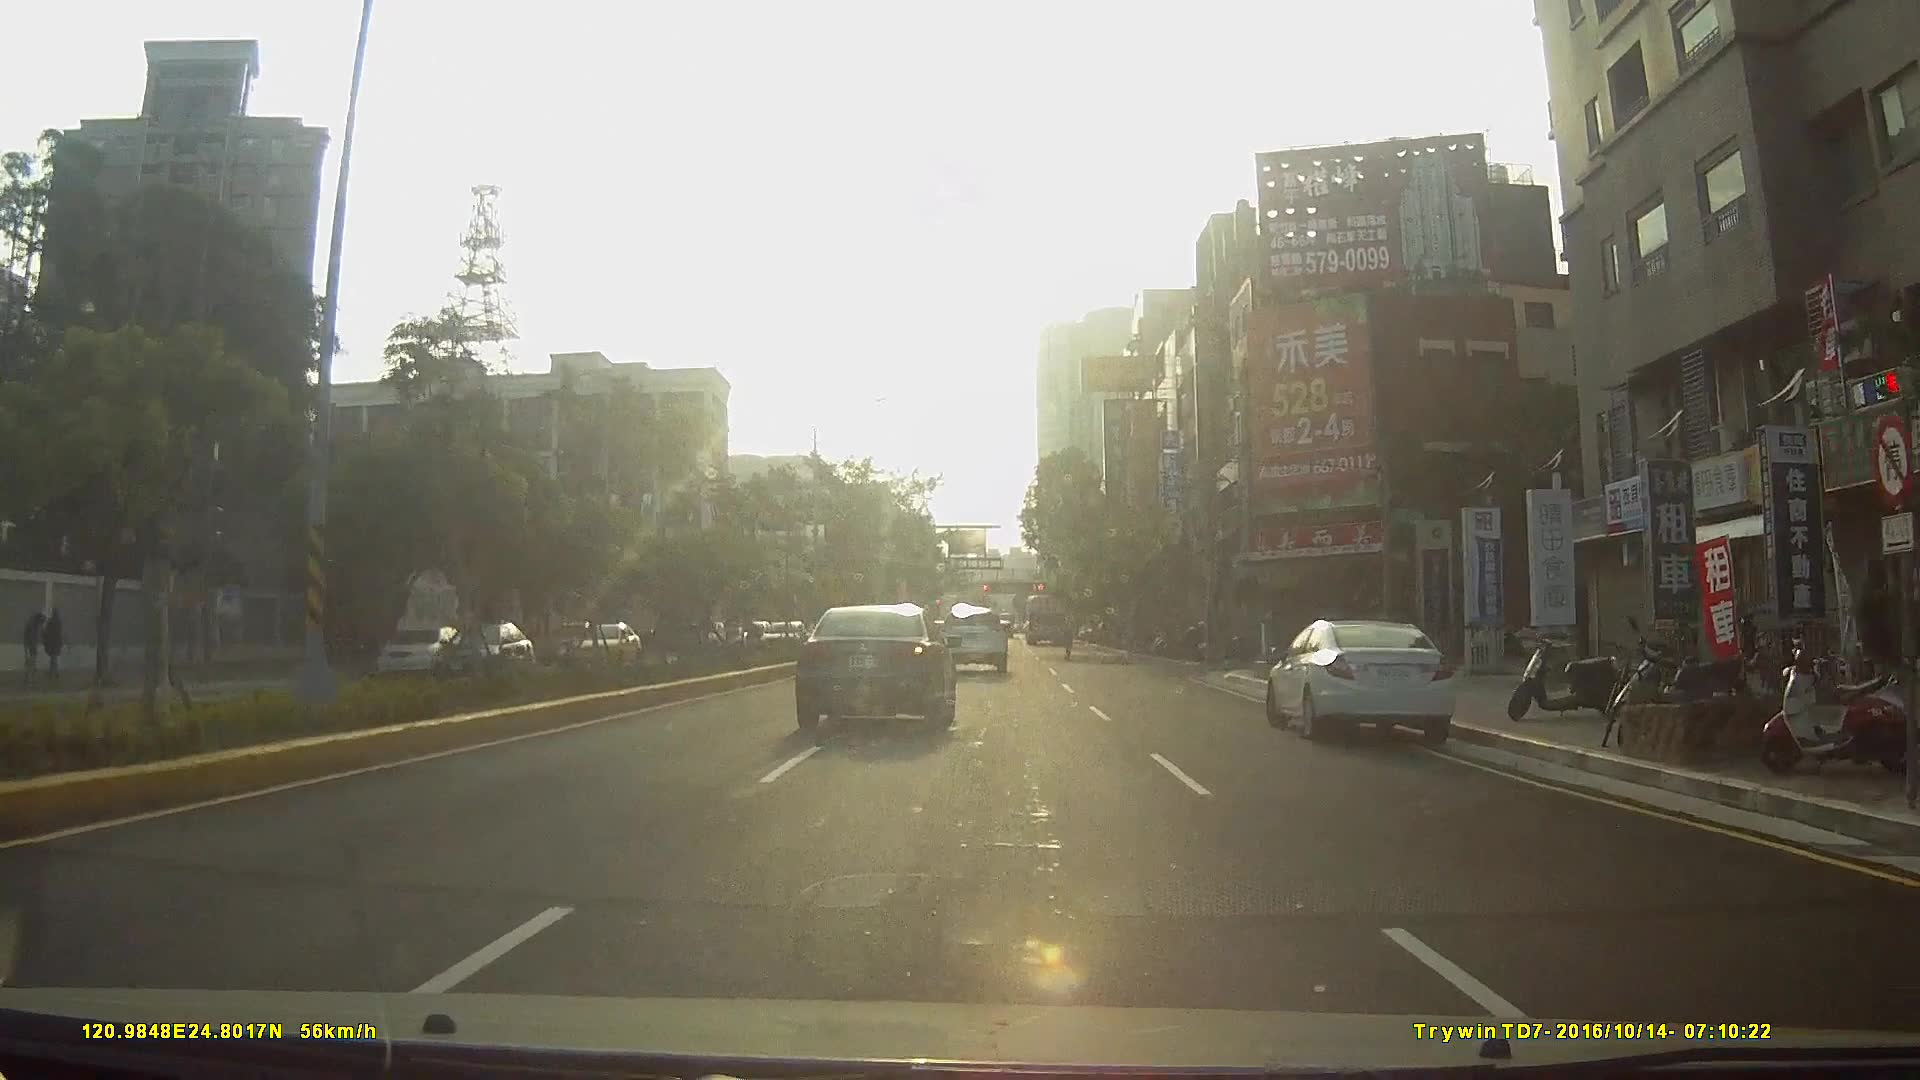pedestrian: (43, 607, 65, 680), (25, 612, 46, 675)
vehicle: (1268, 616, 1466, 747), (791, 600, 956, 731), (422, 616, 542, 695), (934, 604, 1007, 676), (364, 623, 459, 678), (564, 622, 644, 675), (446, 622, 519, 671), (1021, 592, 1066, 648), (754, 619, 804, 657)
